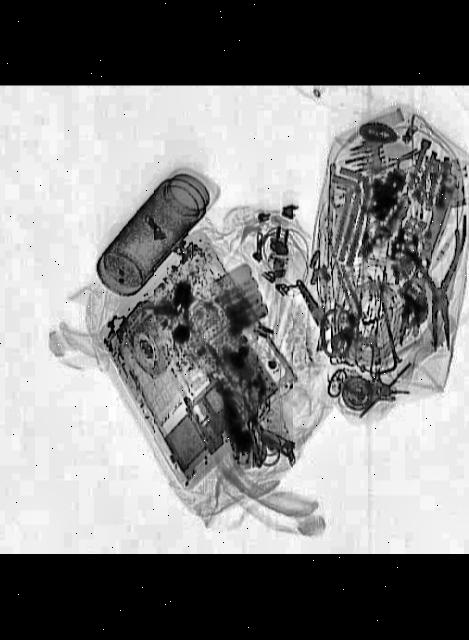Pliers: (396, 217, 469, 353)
